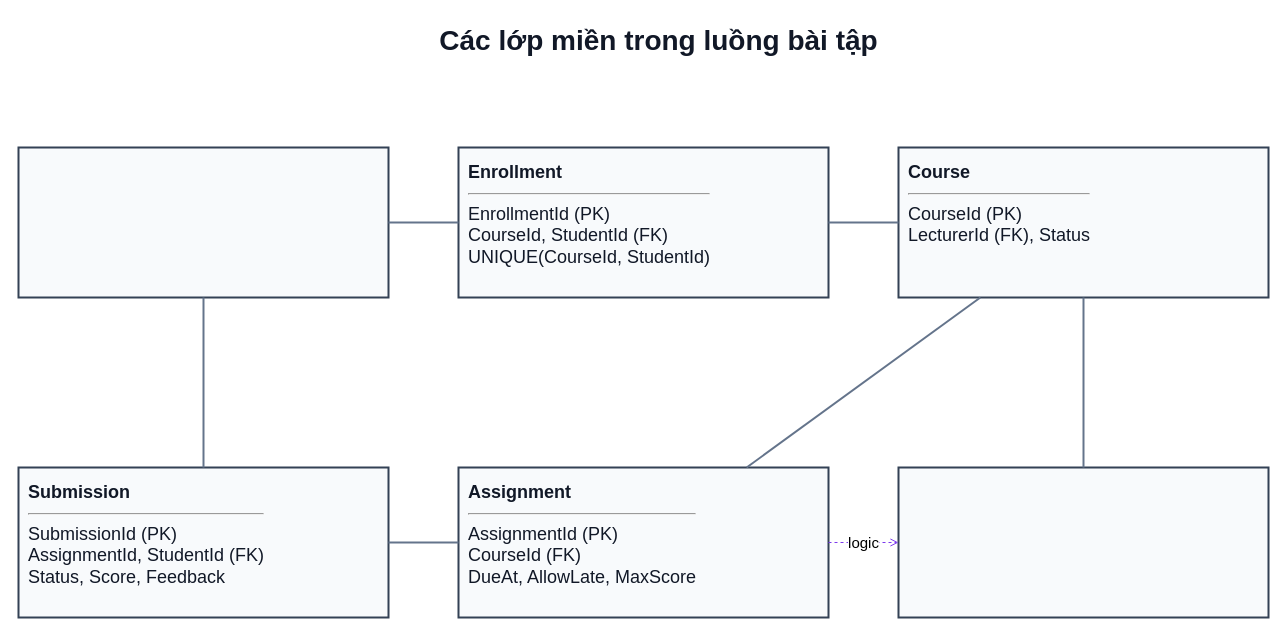
This 1286x635 diagram has some shape labels left out. The shapes that lost their labels are listed below. From the top down, each one's centre as x and y in pixels, then its label:
pixel 203 222: User UserId (PK) Role, StudentCode
pixel 1083 542: Grade GradeId (PK) CourseId, StudentId, GradedBy (FK) SourceType, SourceId
